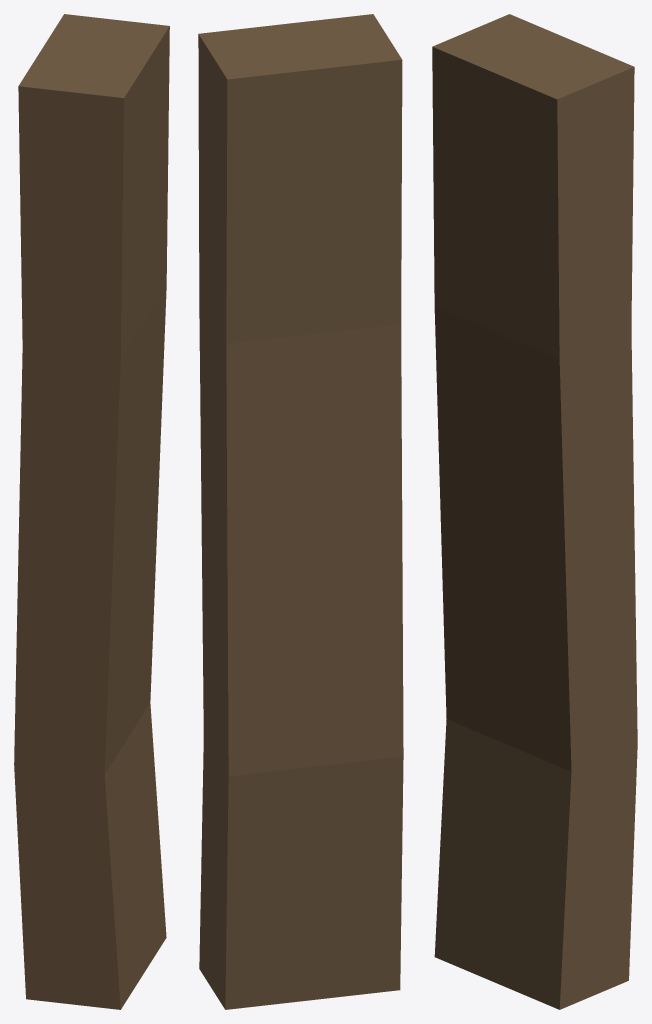
Rendered from rpgpp_av_wall_connector_corner_01c_3m.gltf.
The picture shows the model from 3 angles, left to right: view 1: azimuth 30°, elevation 25°; view 2: azimuth 150°, elevation 25°; view 3: azimuth 270°, elevation 25°; orthographic projection. The views are drawn at different scales.
Parts seen in each view (by area): view 1: rpgpp_av_wall_connector_corner_01c_3m; view 2: rpgpp_av_wall_connector_corner_01c_3m; view 3: rpgpp_av_wall_connector_corner_01c_3m.
Boxes of the visible parts, box(x1,y1,x2,y2) form: rpgpp_av_wall_connector_corner_01c_3m: box(14, 14, 169, 1009); rpgpp_av_wall_connector_corner_01c_3m: box(198, 14, 403, 1009); rpgpp_av_wall_connector_corner_01c_3m: box(432, 14, 637, 1009).
Size of the model in its own units: 0.00613 by 0.03 by 0.00613.
Materials: 1 (1 with a texture image).
